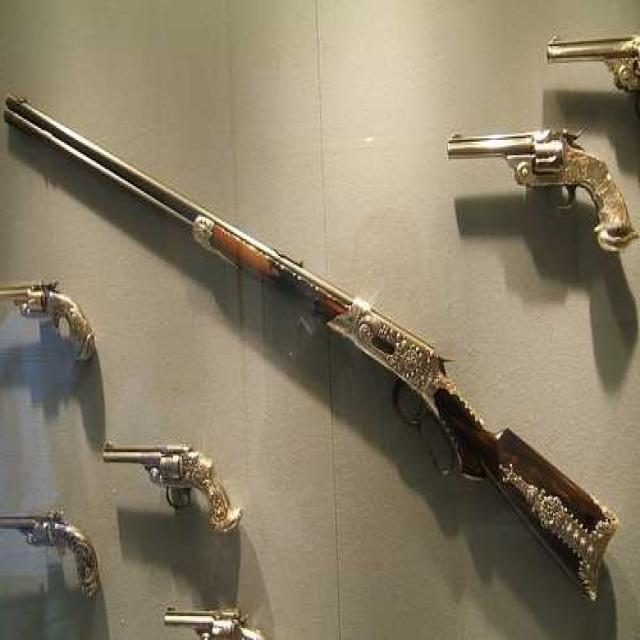heavyweapon: (2, 60, 608, 640)
